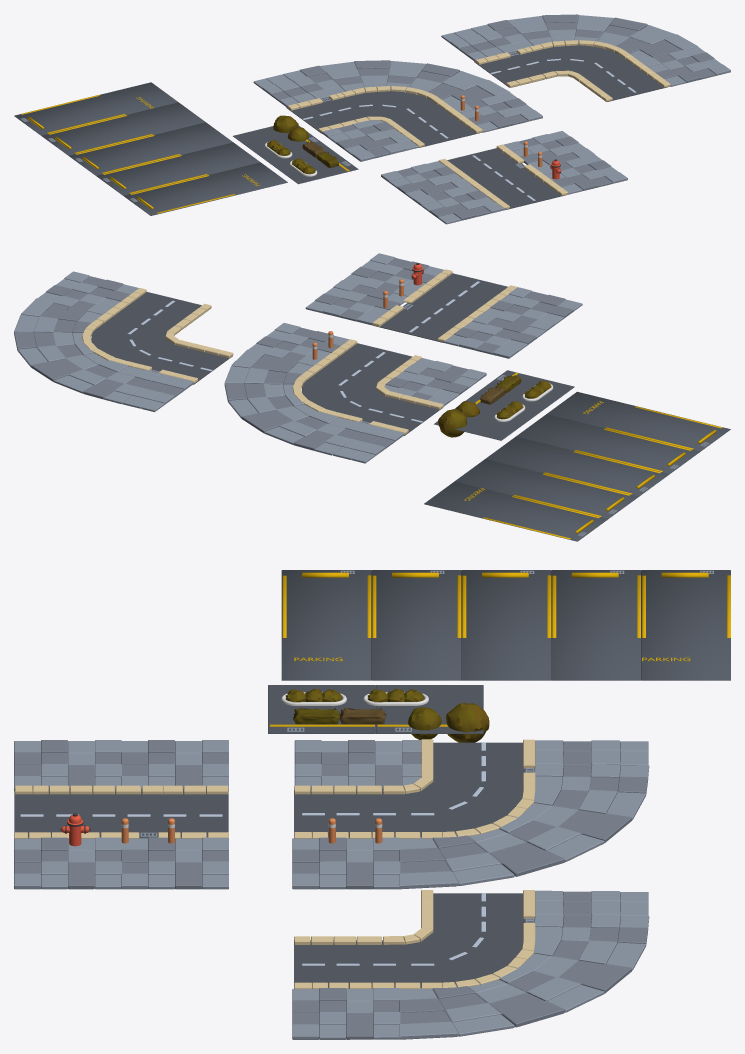
File: some_BG_assets.fbx
3 renders of one model, top to bottom at view 1: azimuth 30°, elevation 25°; view 2: azimuth 150°, elevation 25°; view 3: azimuth 270°, elevation 25°, orthographic. The views are drawn at different scales.
Parts seen in each view (by area): view 1: Text.001, Curved_road, Curved_road.002, Curved_road.001, Straight_road_1, Straight_road_1.002, Straight_road_1.001, yellow_lane, Straight_road_1.003; view 2: Text.001, Curved_road, Curved_road.002, Curved_road.001, Straight_road_1, Straight_road_1.002, Straight_road_1.001, yellow_lane, Straight_road_1.003, pherical_bush_2; view 3: Text.001, Curved_road, Curved_road.002, Curved_road.001, Straight_road_1.001, Straight_road_1, Straight_road_1.002, yellow_lane, Straight_road_1.003, pherical_bush_2, Circle.001, Circle (+1 smaller).
Part boxes in pixels (x1,y1,x2,y2): Text.001: (14, 82, 287, 215); Curved_road: (253, 60, 542, 147); Curved_road.002: (441, 14, 730, 86); Curved_road.001: (474, 40, 670, 101); Straight_road_1: (438, 144, 567, 209); Straight_road_1.002: (381, 161, 506, 224); Straight_road_1.001: (503, 131, 627, 194); yellow_lane: (233, 126, 358, 184); Straight_road_1.003: (322, 120, 418, 161); Text.001: (424, 391, 730, 541); Curved_road: (224, 323, 443, 463); Curved_road.002: (14, 271, 193, 412); Curved_road.001: (82, 288, 233, 384); Straight_road_1: (372, 269, 517, 342); Straight_road_1.002: (442, 287, 582, 358); Straight_road_1.001: (305, 253, 444, 325); yellow_lane: (434, 370, 574, 440); Straight_road_1.003: (384, 358, 486, 406); pherical_bush_2: (437, 409, 467, 437); Text.001: (281, 570, 730, 680); Curved_road: (292, 739, 649, 889); Curved_road.002: (292, 890, 649, 1039); Curved_road.001: (294, 890, 535, 989); Straight_road_1.001: (14, 837, 228, 889); Straight_road_1: (14, 785, 228, 838); Straight_road_1.002: (14, 740, 228, 791); yellow_lane: (268, 685, 483, 733); Straight_road_1.003: (294, 740, 421, 791); pherical_bush_2: (446, 702, 489, 742); Circle.001: (281, 689, 346, 705); Circle: (363, 689, 428, 705).
Size of the model in its own units: 12015 by 592 by 7784.
14 materials, 2 textured.
